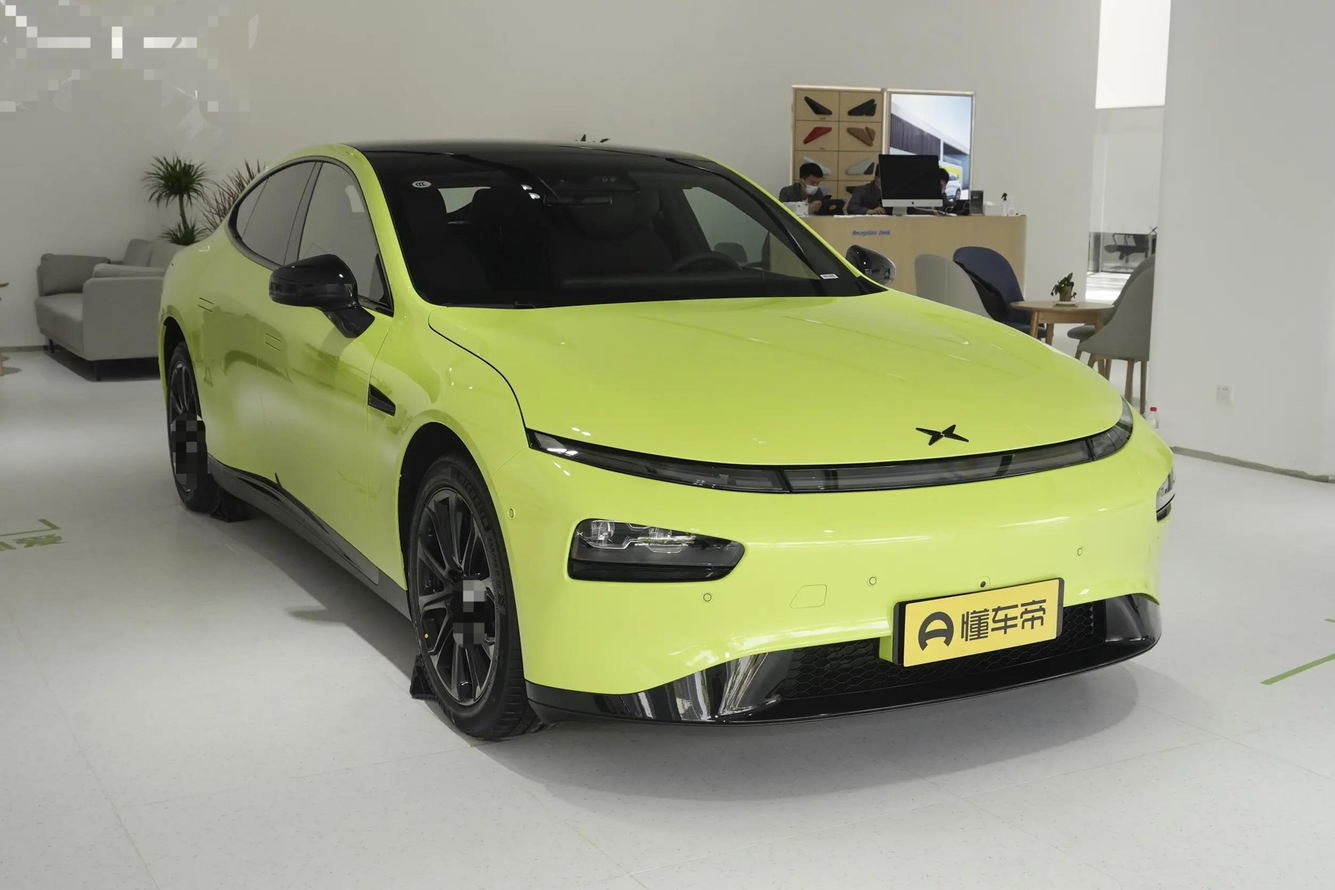XPeng Motors: (916, 424, 969, 446)
